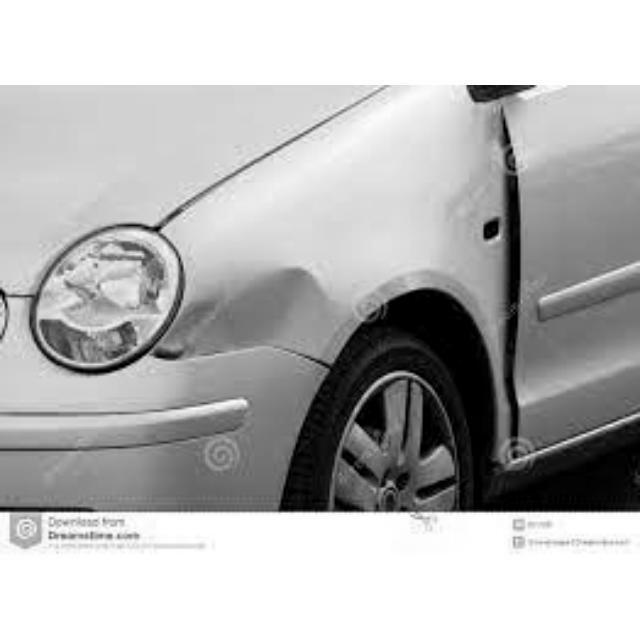doorouter-dent: (507, 85, 638, 444)
fender-dent: (186, 114, 503, 397)
